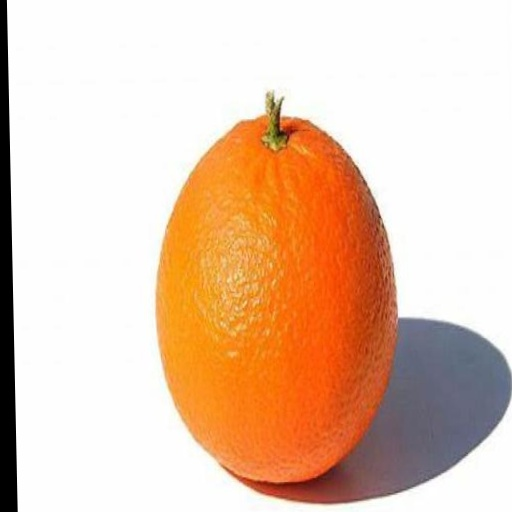fruit: (157, 96, 397, 481)
